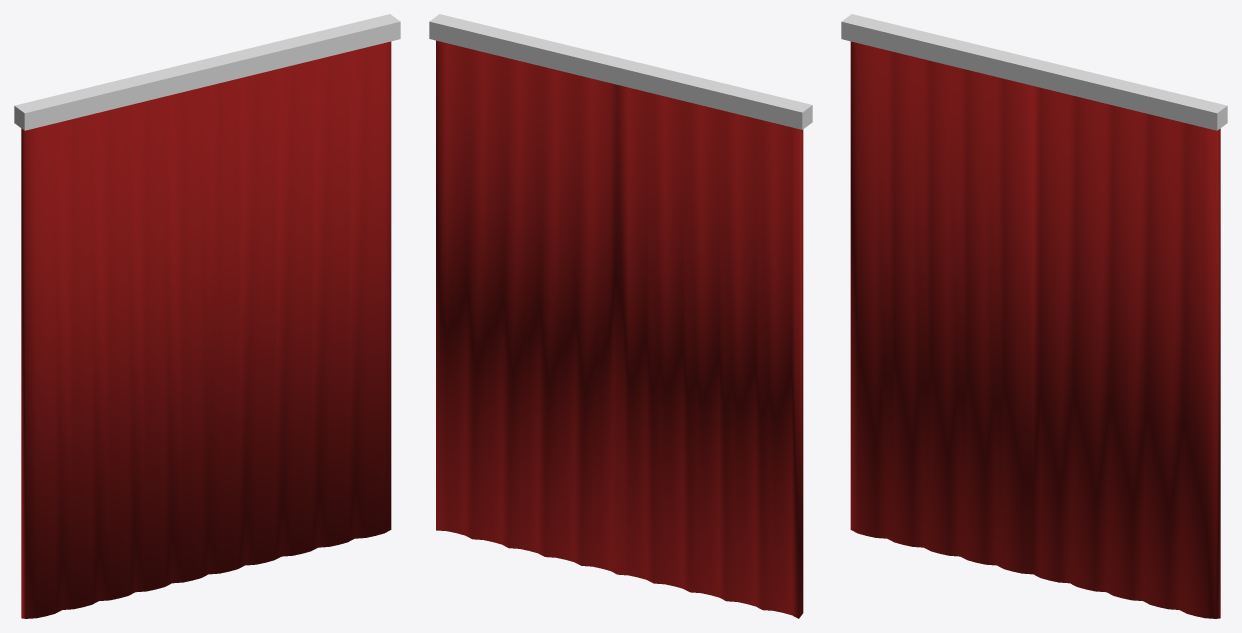
Rendered from Curtains closed.fbx.
3 renders of one model, left to right at view 1: azimuth 30°, elevation 25°; view 2: azimuth 150°, elevation 25°; view 3: azimuth 330°, elevation 25°, orthographic.
Visible parts, largest first — view 1: Improved Close curtains, Improved Curtain rail; view 2: Improved Close curtains, Improved Curtain rail; view 3: Improved Close curtains, Improved Curtain rail.
Part boxes in pixels (<box>): Improved Close curtains: <box>21,41,391,618</box>; Improved Curtain rail: <box>14,14,400,130</box>; Improved Close curtains: <box>436,40,803,618</box>; Improved Curtain rail: <box>429,14,812,129</box>; Improved Close curtains: <box>850,41,1220,618</box>; Improved Curtain rail: <box>841,14,1227,130</box>.
Size of the model in its own units: 649 by 846 by 31.25.
